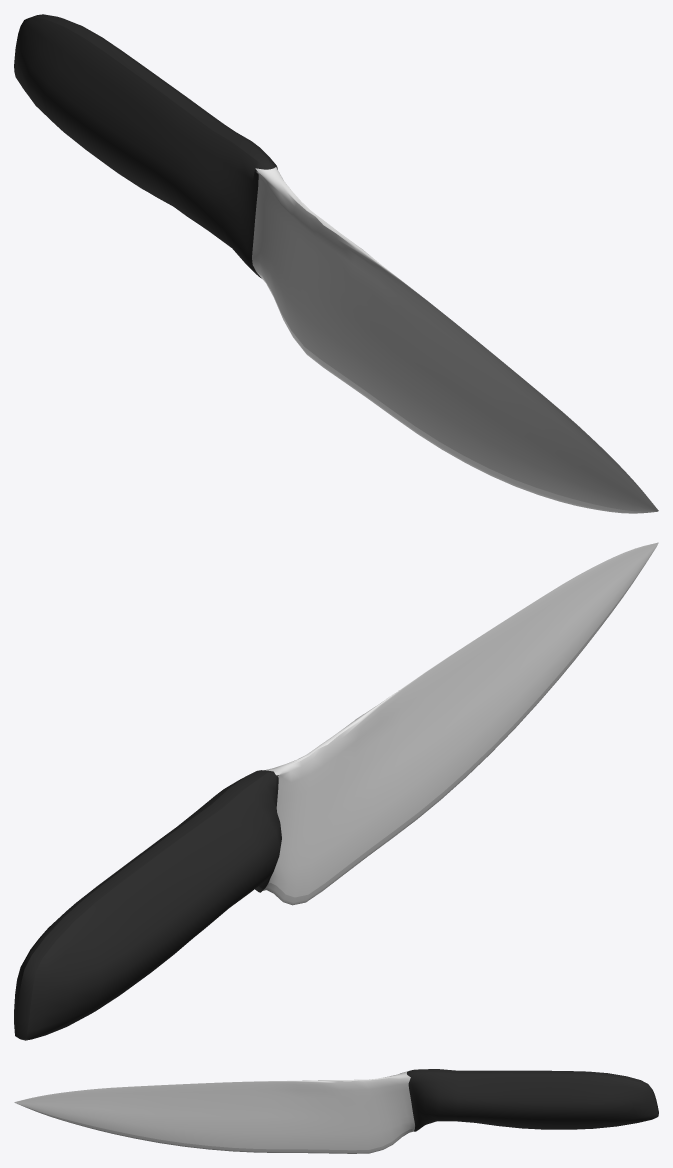
Rendered from Knife.fbx.
3 renders of one model, top to bottom at view 1: azimuth 30°, elevation 25°; view 2: azimuth 150°, elevation 25°; view 3: azimuth 270°, elevation 25°, orthographic. The views are drawn at different scales.
Parts seen in each view (by area): view 1: Cube; view 2: Cube; view 3: Cube.
Part boxes in pixels (x1,y1,x2,y2): Cube: (14,14,658,513); Cube: (14,542,658,1040); Cube: (14,1069,658,1153).
Size of the model in its own units: 61.83 by 109 by 759.
Materials: 1 (1 with a texture image).
